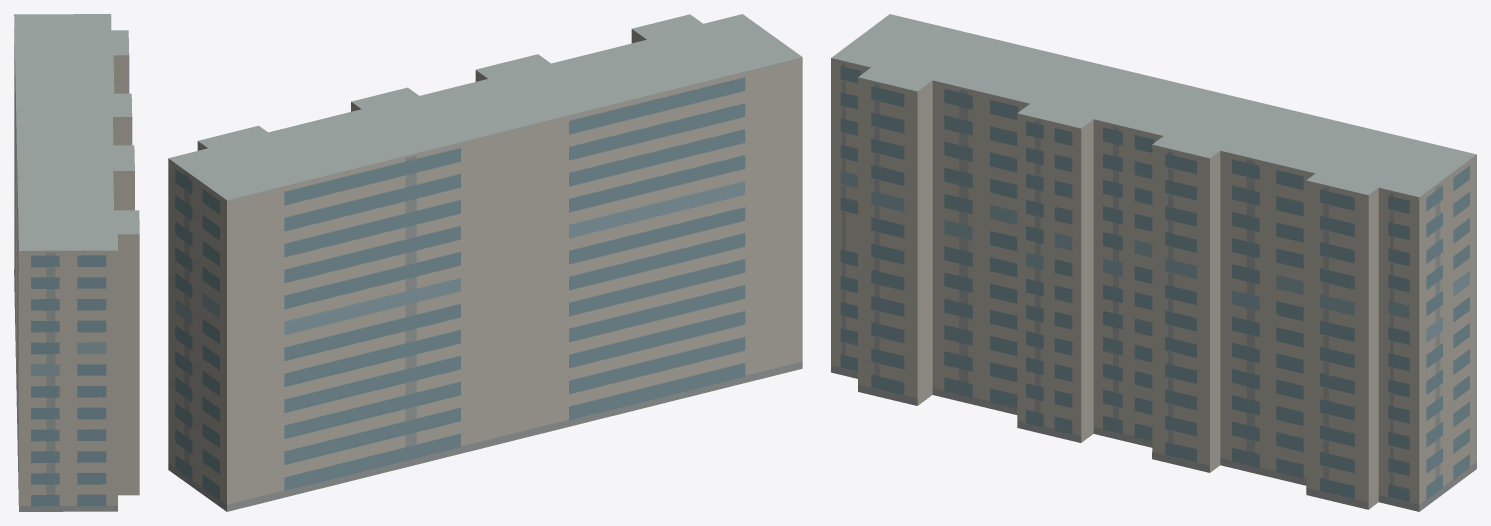
The model's file is residential-df2a6943-14cf-4232-a3e4-b07ca1dcb893.glb.
3 views of the same model, side by side, from view 1: azimuth 30°, elevation 25°; view 2: azimuth 150°, elevation 25°; view 3: azimuth 270°, elevation 25° (orthographic). The views are drawn at different scales.
Visible parts, largest first — view 1: residential-df2a6943-14cf-4232-a3e4-b07ca1dcb893.tmp; view 2: residential-df2a6943-14cf-4232-a3e4-b07ca1dcb893.tmp; view 3: residential-df2a6943-14cf-4232-a3e4-b07ca1dcb893.tmp.
Boxes of the visible parts, x1=… form: residential-df2a6943-14cf-4232-a3e4-b07ca1dcb893.tmp: x1=14, y1=14, x2=139, y2=511; residential-df2a6943-14cf-4232-a3e4-b07ca1dcb893.tmp: x1=168, y1=14, x2=802, y2=511; residential-df2a6943-14cf-4232-a3e4-b07ca1dcb893.tmp: x1=831, y1=14, x2=1476, y2=511.
Size of the model in its own units: 40.01 by 32 by 59.54.
